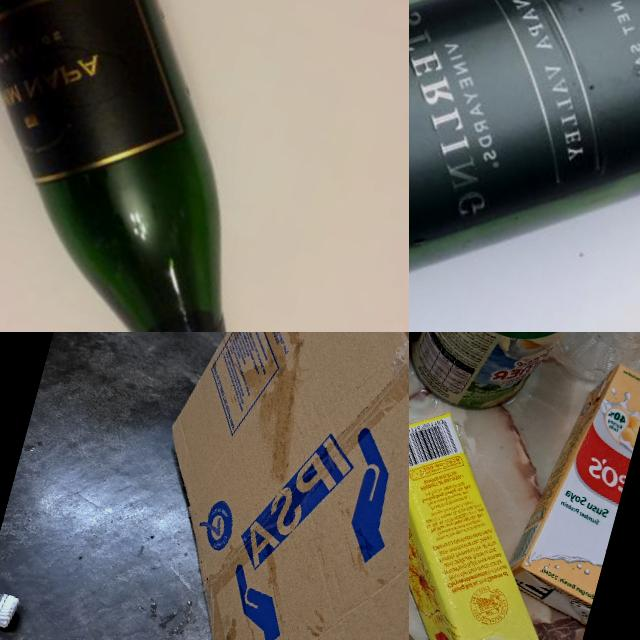caixinha: (409, 395, 601, 640), (498, 348, 640, 628), (409, 332, 459, 625)
garrafa de vidro: (0, 0, 368, 332), (409, 0, 640, 332)
garrafa plástica: (540, 332, 640, 399), (0, 572, 24, 640)
lata: (409, 332, 603, 434)
papelão: (82, 332, 409, 640)
tampa plástica: (0, 590, 19, 632)
